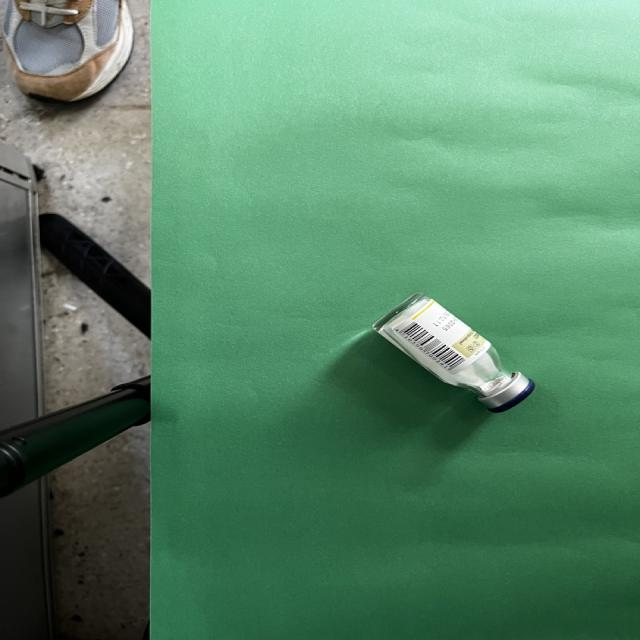Vials: (373, 293, 534, 413)
